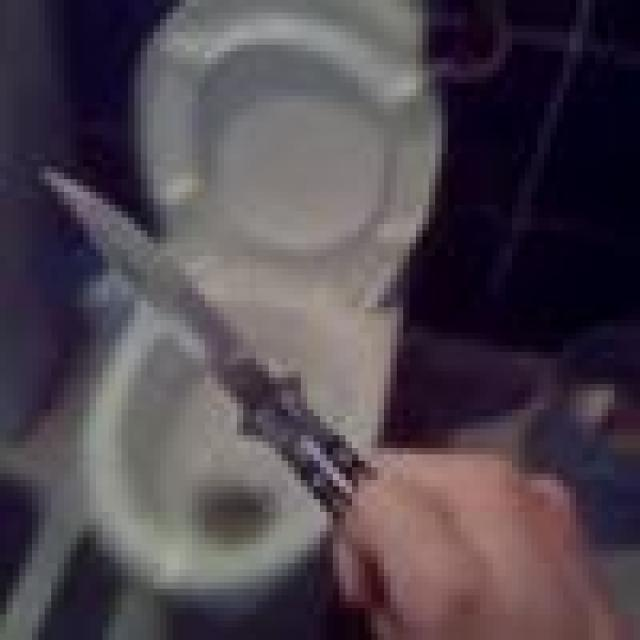faca: (38, 160, 608, 640)
